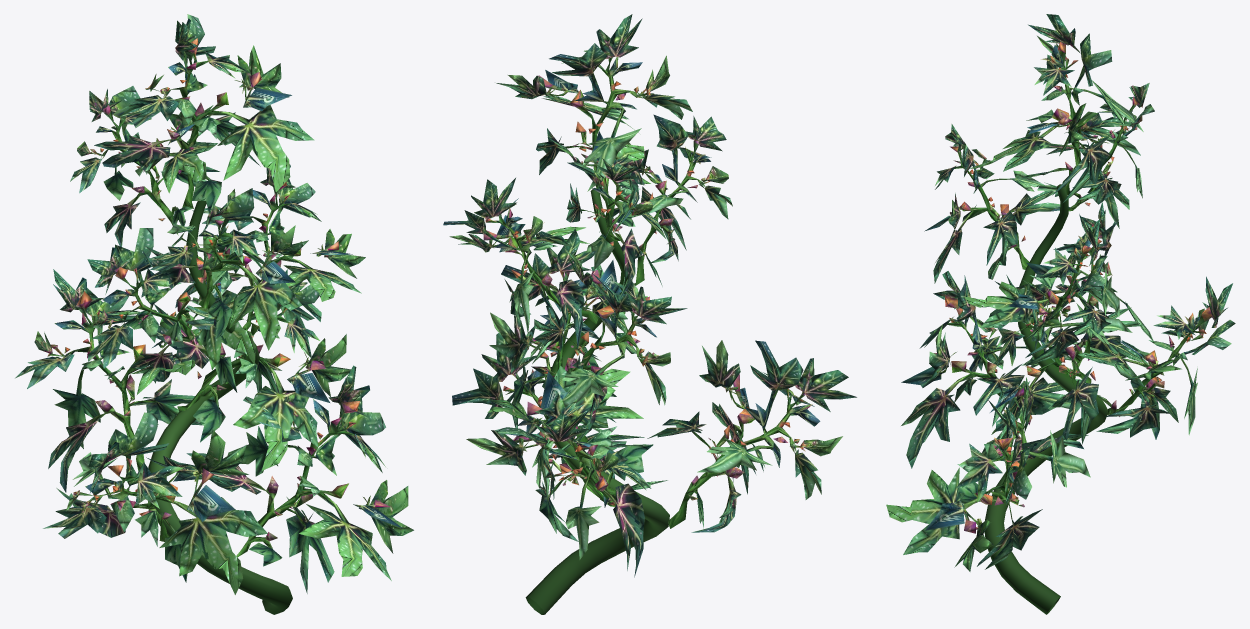
File: corkscrew.glb
The picture shows the model from 3 angles, left to right: view 1: azimuth 30°, elevation 25°; view 2: azimuth 150°, elevation 25°; view 3: azimuth 270°, elevation 25°; orthographic projection. The views are drawn at different scales.
Parts seen in each view (by area): view 1: Mesh; view 2: Mesh; view 3: Mesh.
Part boxes in pixels (x1,y1,x2,y2): Mesh: [15, 14, 413, 614]; Mesh: [443, 14, 856, 614]; Mesh: [886, 14, 1235, 614].
Size of the model in its own units: 0.8349 by 1.36 by 0.7706.
1 material, 1 textured.
